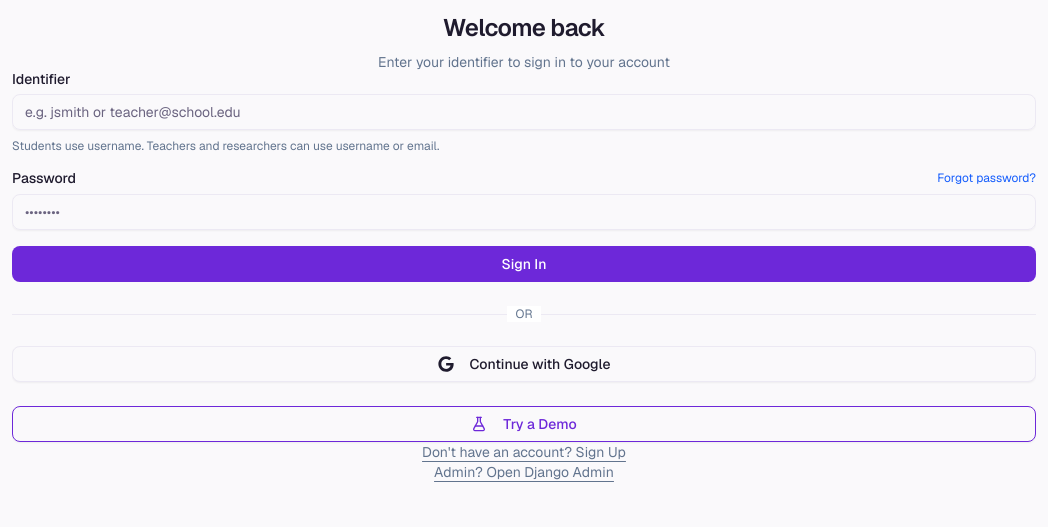
Test: Login page › maps field-level backend validation errors
Type "bad-id" into the field labelled "Identifier" at (524, 112), box 12,94 -> 1036,130
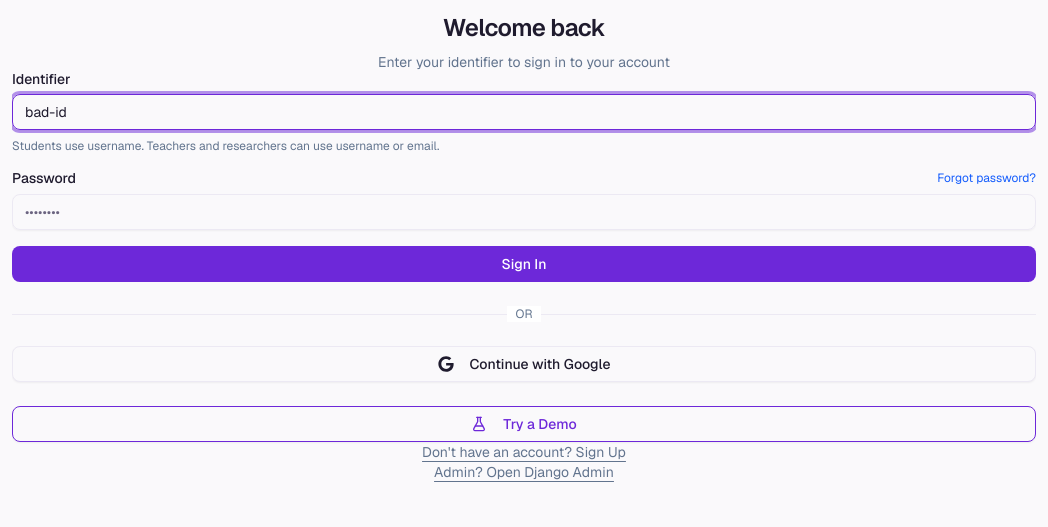
Type "wrong-pass" into the password field labelled "Password" at (524, 212), box 12,194 -> 1036,230
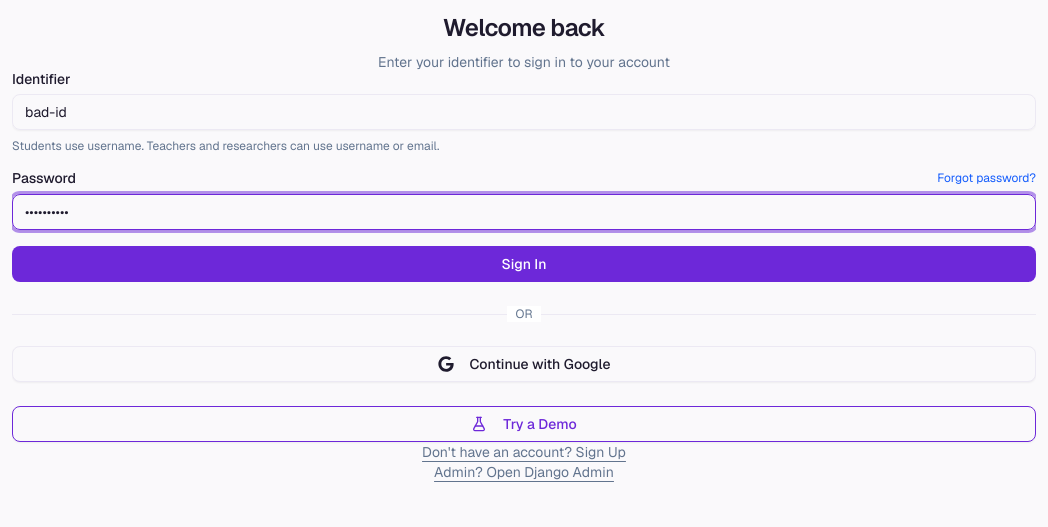
Click the button "Sign In" at (524, 264), box 12,246 -> 1036,282
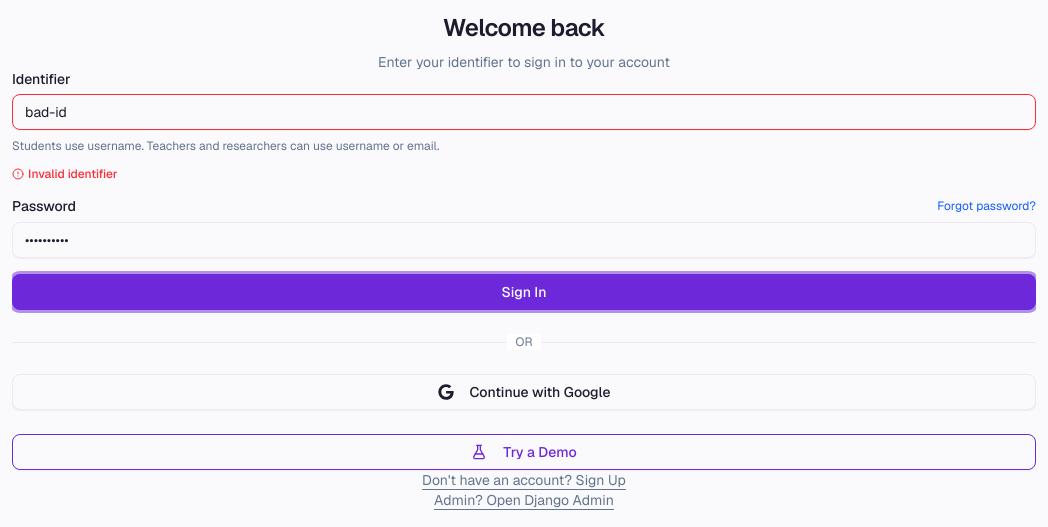
Check: the text "Invalid identifier" is shown, box 12,166 -> 118,182
